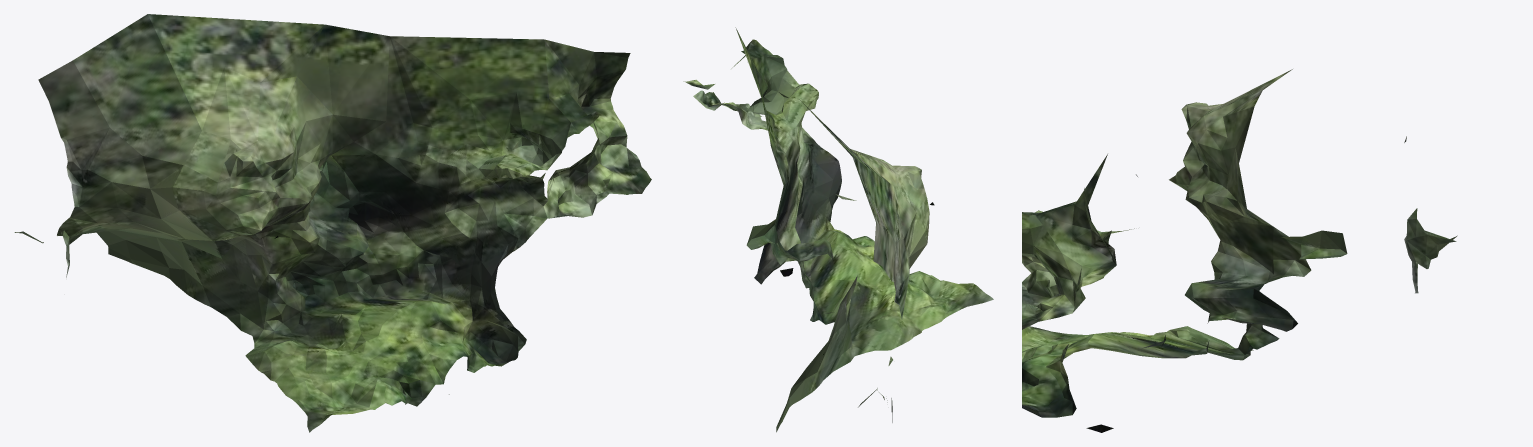
3 views of the same model, side by side, from view 1: azimuth 30°, elevation 25°; view 2: azimuth 150°, elevation 25°; view 3: azimuth 270°, elevation 25° (orthographic). The views are drawn at different scales.
Size of the model in its own units: 26.11 by 18.3 by 26.11.
Materials: 3 (3 with a texture image).
